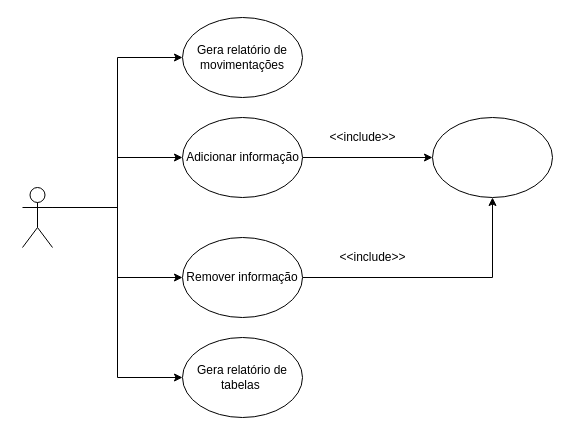
Some shapes in this 570 by 435 pixel diagram are drawn without their labels. The centre of each missing label's shape, as x and y in pixels:
"Usuario" belongs at pixel 37 217.
"Validar operção" belongs at pixel 492 157.
